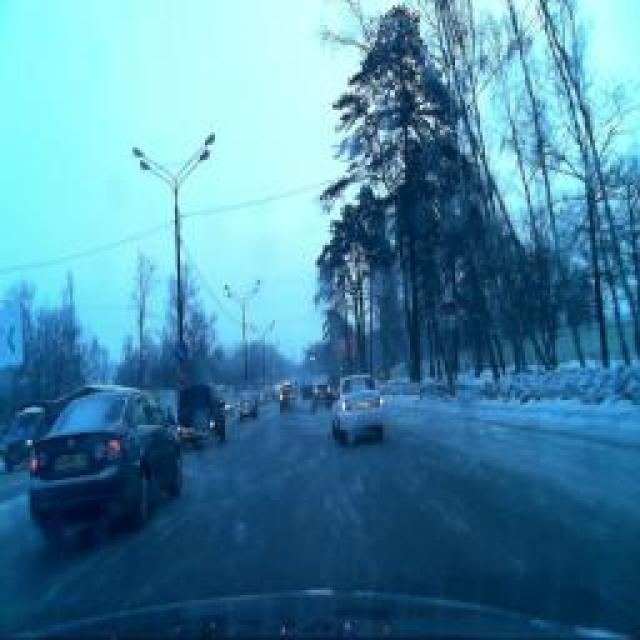sign: (439, 282, 456, 312)
